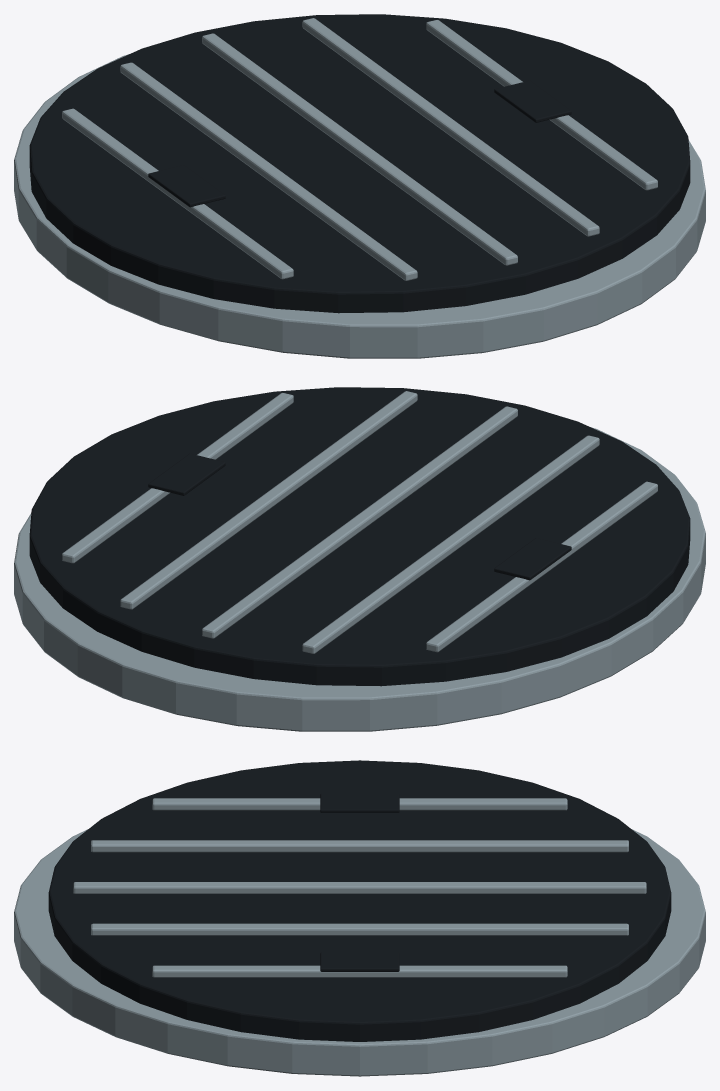
File: edited.glb
3 renders of one model, top to bottom at view 1: azimuth 30°, elevation 25°; view 2: azimuth 150°, elevation 25°; view 3: azimuth 270°, elevation 25°, orthographic. The views are drawn at different scales.
Visible parts, largest first — view 1: LID, FRAME, RIB.002, RIB.001, RIB.003, RIB, RIB.004, LIFT_Recess.001, LIFT_Recess; view 2: LID, FRAME, RIB.002, RIB.001, RIB.003, RIB, RIB.004, LIFT_Recess.001, LIFT_Recess; view 3: LID, FRAME, RIB.001, RIB.003, RIB.002, RIB.004, RIB, LIFT_Recess, LIFT_Recess.001.
Part boxes in pixels (x1,y1,x2,y2): LID: (29,14,690,313); FRAME: (14,54,705,358); RIB.002: (202,33,517,265); RIB.001: (120,62,417,280); RIB.003: (302,18,599,236); RIB: (62,108,293,279); RIB.004: (426,20,657,190); LIFT_Recess.001: (494,80,571,122); LIFT_Recess: (148,165,225,207); LID: (29,387,690,686); FRAME: (14,427,705,731); RIB.002: (202,406,517,638); RIB.001: (302,435,599,653); RIB.003: (120,391,417,609); RIB: (426,481,657,652); RIB.004: (62,393,293,563); LIFT_Recess.001: (148,453,225,495); LIFT_Recess: (494,538,571,580); LID: (48,760,671,1041); FRAME: (14,829,705,1076); RIB.001: (91,840,628,852); RIB.003: (91,923,628,935); RIB.002: (73,882,646,893); RIB.004: (152,965,567,977); RIB: (152,798,567,810); LIFT_Recess: (320,793,399,812); LIFT_Recess.001: (320,952,399,971).
Size of the model in its own units: 0.644 by 0.069 by 0.7.
